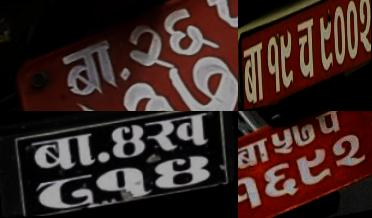0: (331, 2, 348, 73), (344, 0, 360, 68)
1: (91, 162, 155, 208), (264, 29, 282, 104), (238, 174, 264, 213)
2: (122, 17, 178, 78), (330, 134, 369, 170), (356, 0, 372, 63)
3: (113, 73, 192, 111)
4: (148, 151, 216, 197), (102, 123, 150, 166)
5: (268, 127, 294, 157)
6: (160, 1, 221, 64), (261, 161, 300, 200)
7: (166, 53, 238, 111), (290, 120, 318, 149)
8: (28, 170, 100, 217)
9: (295, 148, 334, 186), (278, 24, 297, 96), (318, 5, 336, 80)
ba: (57, 38, 125, 104), (25, 129, 104, 181), (240, 33, 266, 111), (238, 137, 271, 169)
cha: (294, 12, 317, 90)
kha: (141, 111, 217, 161)
pa: (200, 0, 238, 45), (313, 111, 345, 139)
